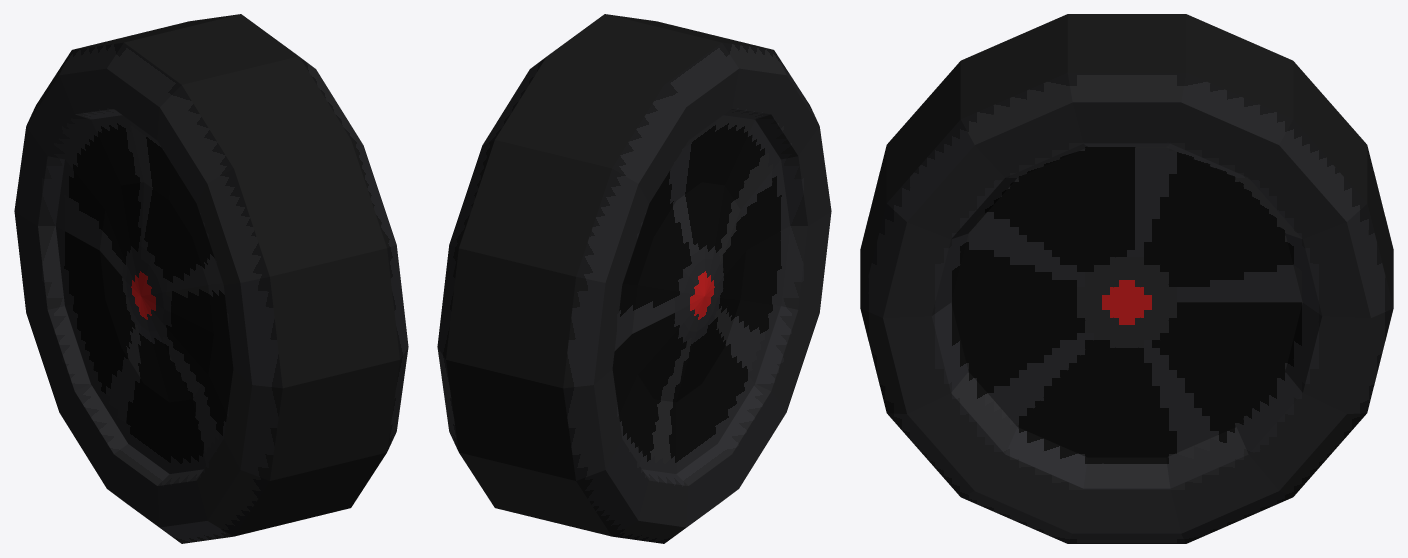
The model's file is wheel_abarth17_l.glb.
3 views of the same model, side by side, from view 1: azimuth 30°, elevation 25°; view 2: azimuth 150°, elevation 25°; view 3: azimuth 270°, elevation 25° (orthographic). The views are drawn at different scales.
Visible parts, largest first — view 1: Wheel; view 2: Wheel; view 3: Wheel.
Boxes of the visible parts, x1,y1,x2,y2 form: Wheel: (14, 14, 408, 543); Wheel: (437, 14, 831, 543); Wheel: (860, 14, 1393, 543).
Bounding box in the file's own units: 0.205 × 0.5752 × 0.59.
Materials: 2 (1 with a texture image).
